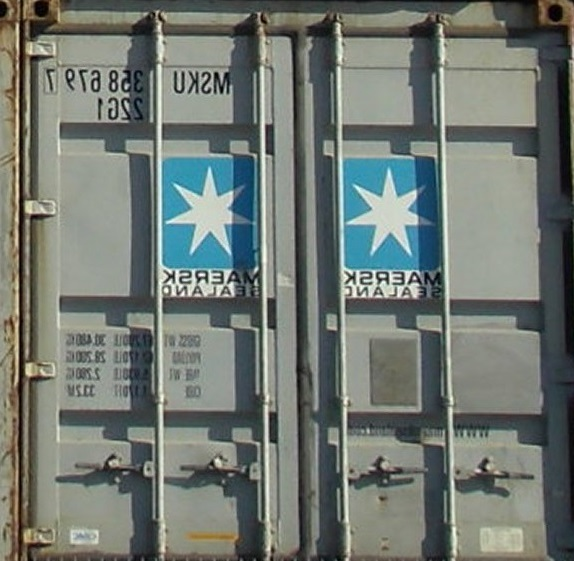container_door: (28, 3, 570, 553)
